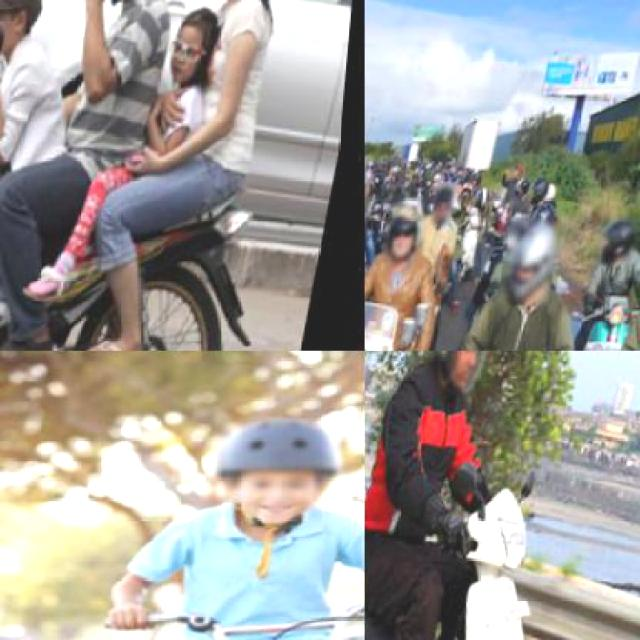With Helmet: (200, 411, 363, 523), (501, 218, 570, 312), (418, 350, 509, 408), (381, 195, 439, 282), (596, 210, 638, 276), (531, 178, 555, 213)
Without Helmet: (432, 187, 462, 236)
